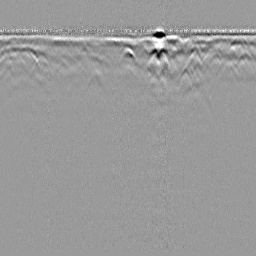cavity: (118, 44, 137, 62)
